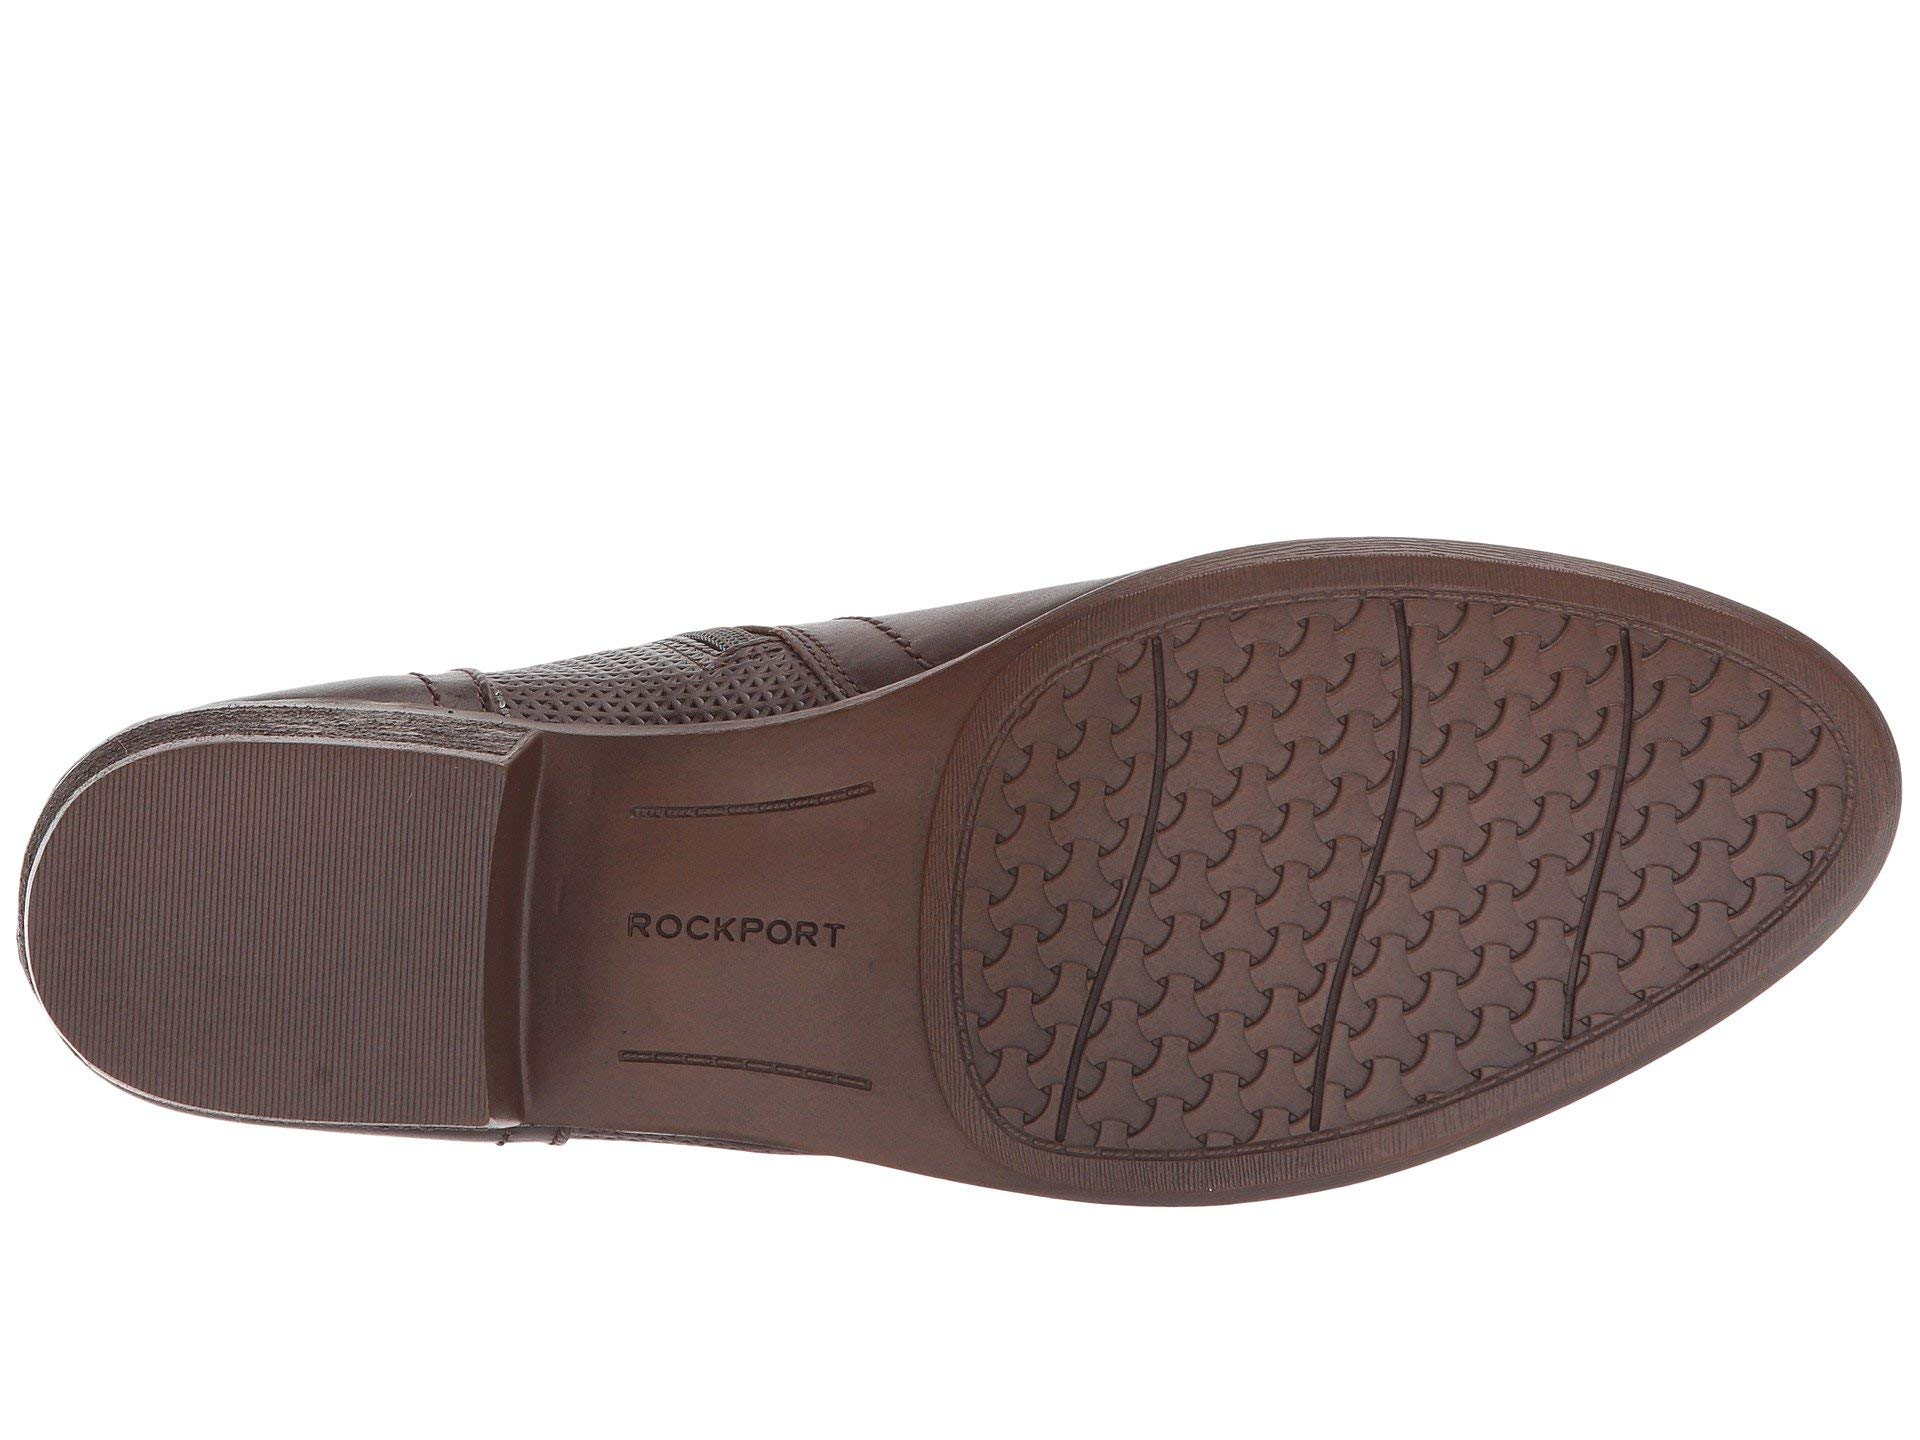circle: (587, 874, 865, 1013)
line: (1471, 647, 1782, 964), (1172, 641, 1459, 945), (109, 787, 402, 1063), (962, 911, 1223, 1153)
star: (1471, 647, 1782, 964), (1172, 641, 1459, 945), (962, 911, 1223, 1153)
text: (587, 874, 865, 1013)
